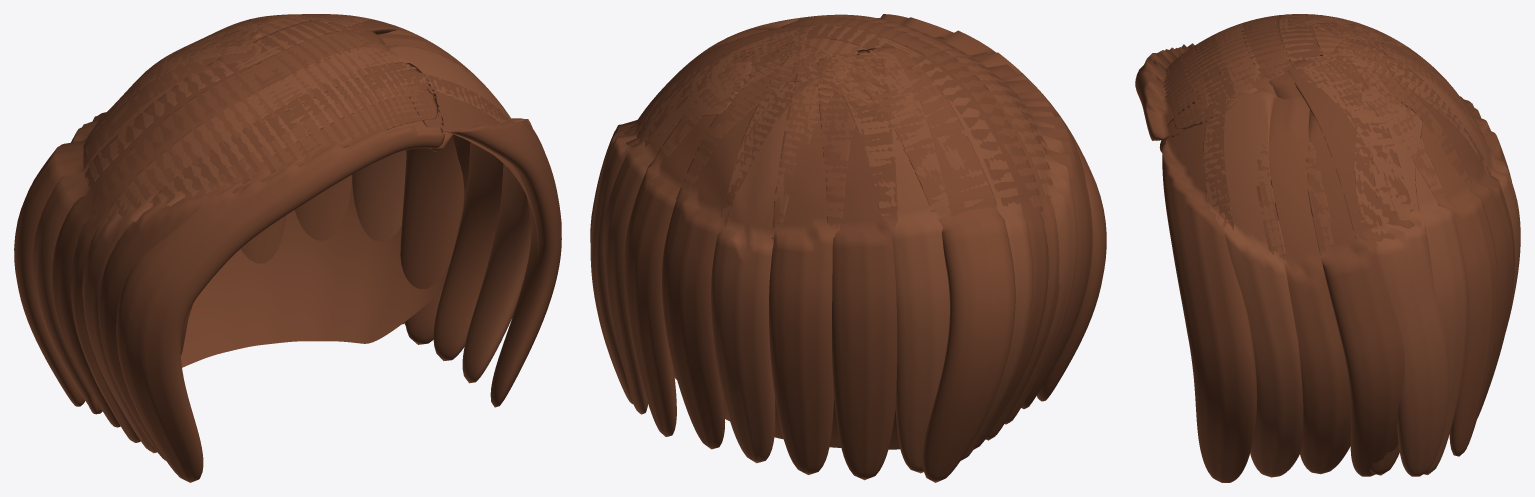
The model's file is Feminine-bob-headband261-hair.glb.
3 views of the same model, side by side, from view 1: azimuth 30°, elevation 25°; view 2: azimuth 150°, elevation 25°; view 3: azimuth 270°, elevation 25° (orthographic). The views are drawn at different scales.
Visible parts, largest first — view 1: 226 hair / Hair / sculpted 0.004, 226 hair / Hair / sculpted 1.005, 226 hair / Hair / sculpted 2.004, 226 hair / Hair / sculpted 1; view 2: 226 hair / Hair / sculpted 0.004, 226 hair / Hair / sculpted 2.004, 226 hair / Hair / sculpted 1.005, 226 hair / Hair / sculpted 1; view 3: 226 hair / Hair / sculpted 1.005, 226 hair / Hair / sculpted 2.004, 226 hair / Hair / sculpted 0.004.
Boxes of the visible parts, x1,y1,x2,y2 form: 226 hair / Hair / sculpted 0.004: (14, 14, 503, 482); 226 hair / Hair / sculpted 1.005: (52, 14, 561, 460); 226 hair / Hair / sculpted 2.004: (32, 14, 532, 453); 226 hair / Hair / sculpted 1: (180, 134, 538, 367); 226 hair / Hair / sculpted 0.004: (624, 14, 1106, 482); 226 hair / Hair / sculpted 2.004: (590, 14, 1077, 473); 226 hair / Hair / sculpted 1.005: (590, 14, 1092, 480); 226 hair / Hair / sculpted 1: (673, 368, 900, 449); 226 hair / Hair / sculpted 1.005: (1154, 14, 1514, 482); 226 hair / Hair / sculpted 2.004: (1181, 14, 1520, 477); 226 hair / Hair / sculpted 0.004: (1135, 14, 1511, 474).
Bounding box in the file's own units: 1.02 × 0.8294 × 0.7806.
